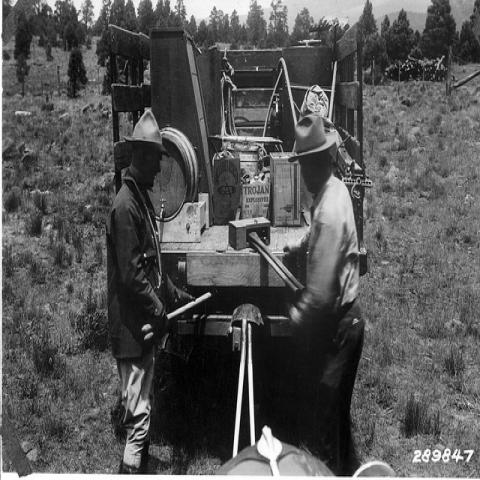truck: (105, 25, 366, 326)
